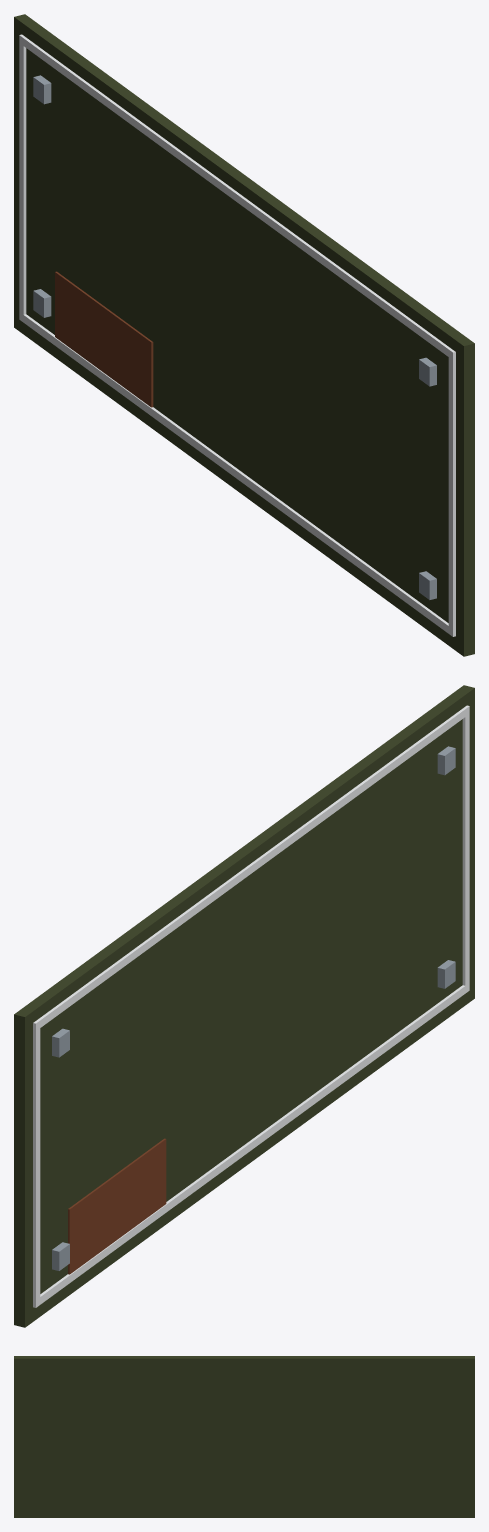
File: egg_carrier_roadsign.fbx
3 renders of one model, top to bottom at view 1: azimuth 30°, elevation 25°; view 2: azimuth 150°, elevation 25°; view 3: azimuth 270°, elevation 25°, orthographic. The views are drawn at different scales.
Parts seen in each view (by area): view 1: egg_carrier_roadsign; view 2: egg_carrier_roadsign; view 3: egg_carrier_roadsign.
Part boxes in pixels (left/top/right/bottom): egg_carrier_roadsign: left=14, top=14, right=474, bottom=656; egg_carrier_roadsign: left=14, top=685, right=474, bottom=1327; egg_carrier_roadsign: left=14, top=1356, right=474, bottom=1517.
Bounding box in the file's own units: 20 × 320 × 840.
